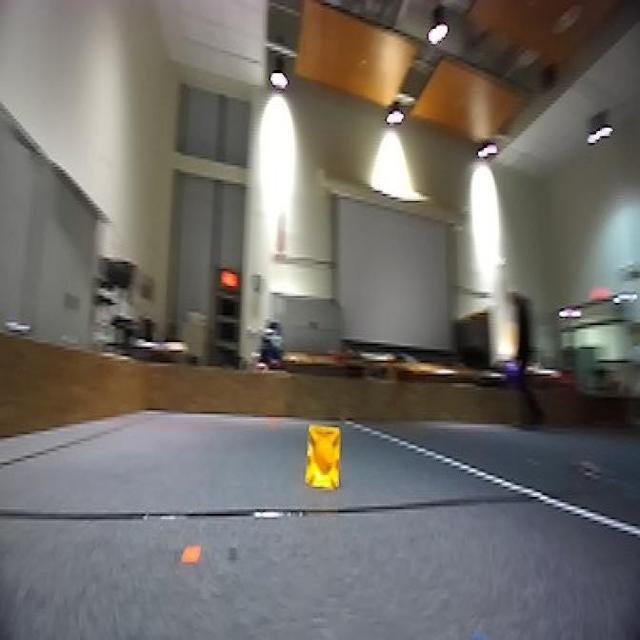frc_cone: (300, 420, 350, 497)
